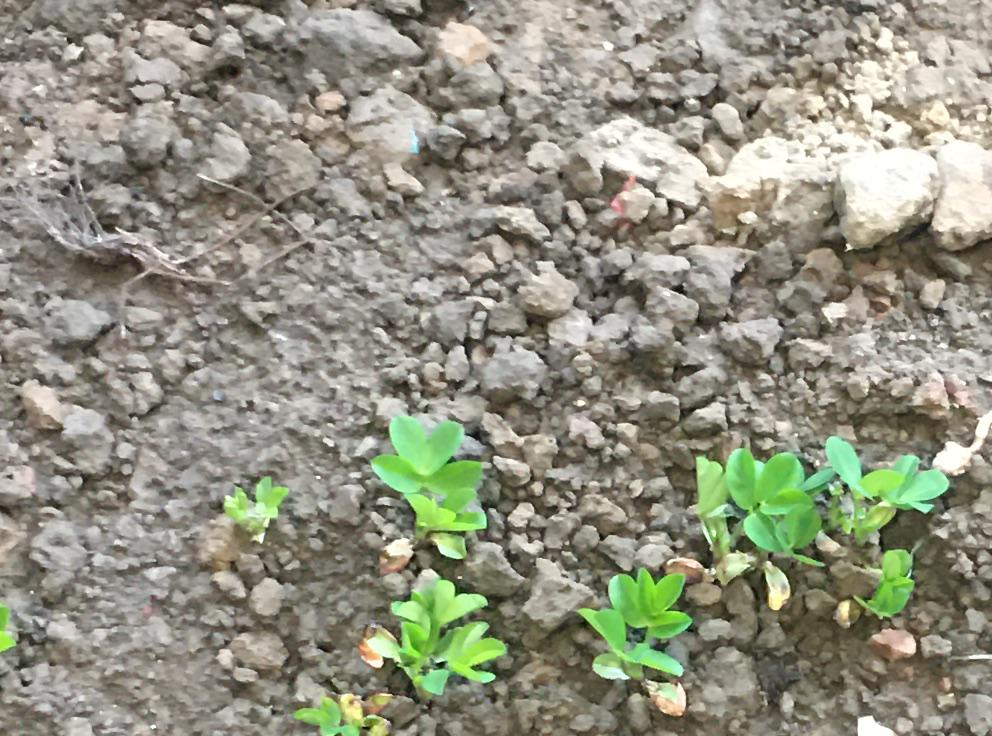block: (830, 146, 933, 248), (287, 9, 427, 84), (929, 132, 991, 257)
